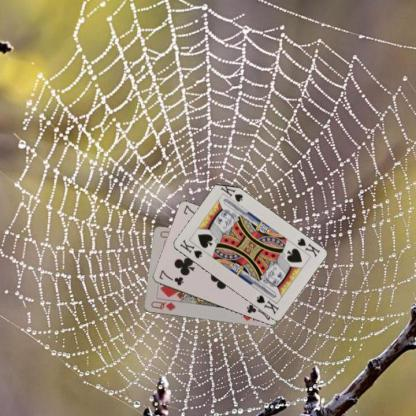7c: (156, 268, 185, 286)
Ks: (177, 237, 203, 260), (294, 235, 320, 258)
Qd: (148, 299, 177, 312)
